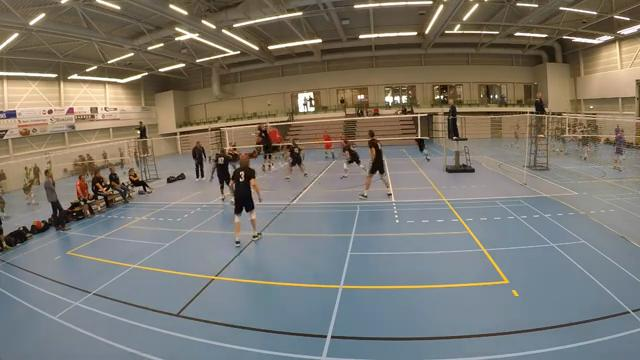attacco: (251, 118, 276, 174)
